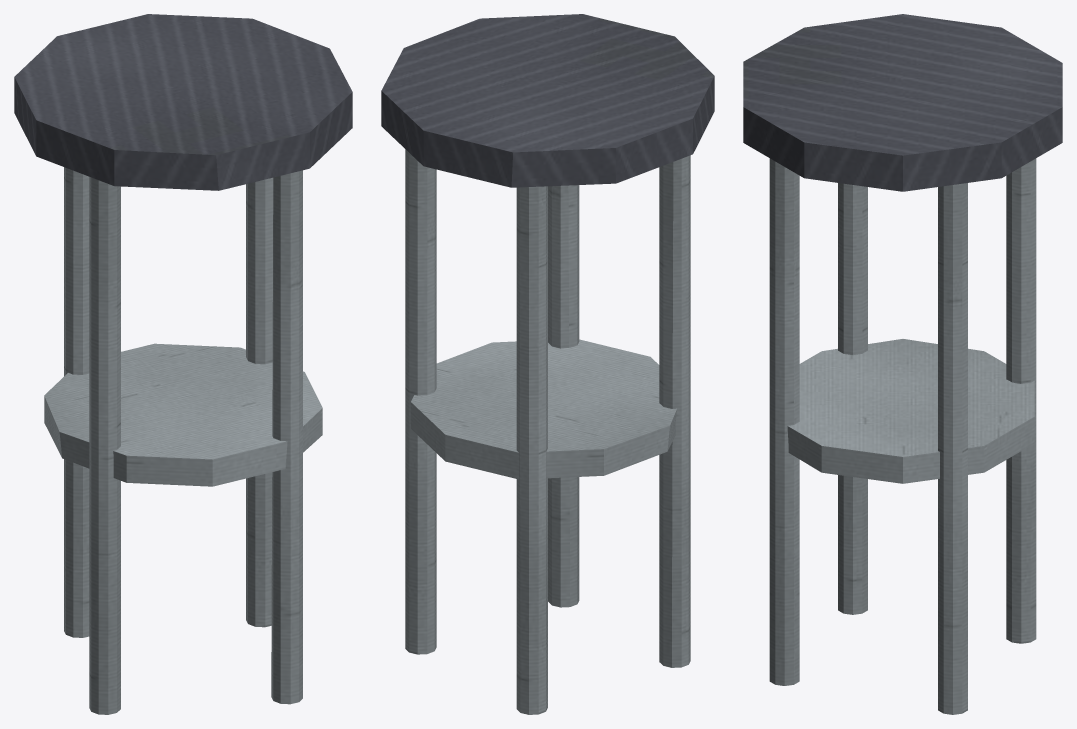
File: stool_v4.glb
3 renders of one model, left to right at view 1: azimuth 30°, elevation 25°; view 2: azimuth 150°, elevation 25°; view 3: azimuth 270°, elevation 25°, orthographic.
Visible parts, largest first — view 1: Variant_stool_4; view 2: Variant_stool_4; view 3: Variant_stool_4.
Part boxes in pixels (box(x1,y1,x2,y2)): Variant_stool_4: box(14, 14, 352, 714); Variant_stool_4: box(381, 14, 714, 714); Variant_stool_4: box(743, 14, 1062, 714).
Bounding box in the file's own units: 0.34 × 0.64 × 0.3234.
Materials: 2 (2 with a texture image).
